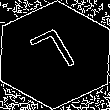L_SE: (26, 26, 84, 84)
